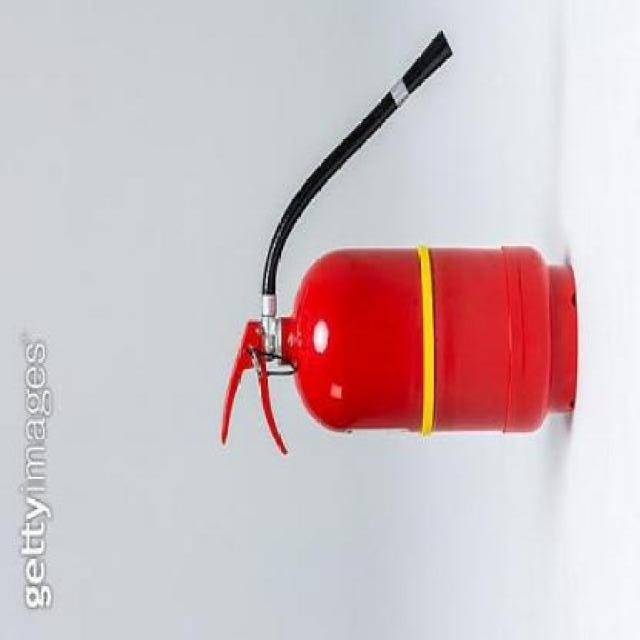fire extinguisher: (219, 31, 578, 454)
